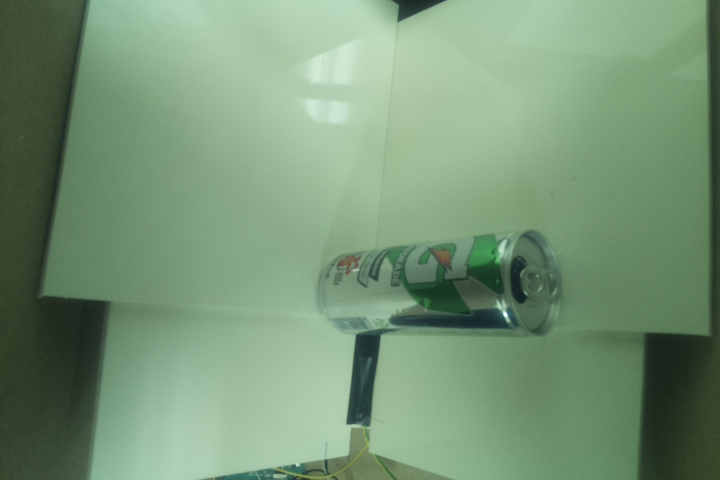can: (314, 226, 560, 340)
